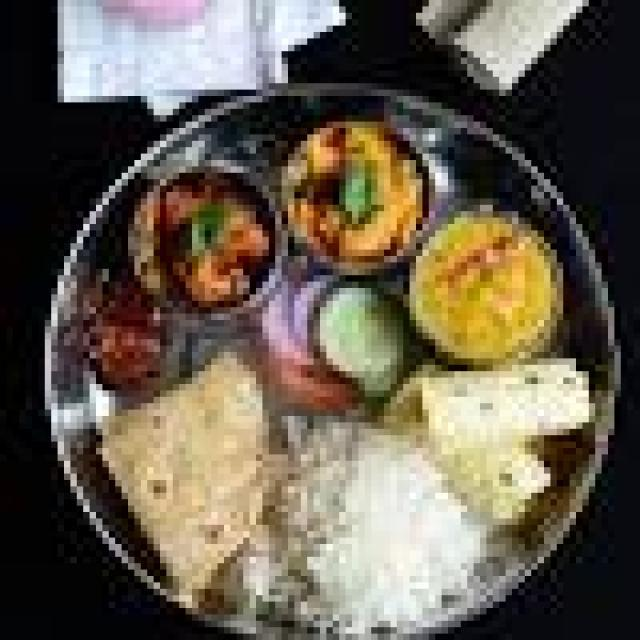dal: (404, 201, 562, 366)
papad: (95, 367, 282, 589), (405, 336, 604, 531), (395, 0, 599, 83)
pickle: (91, 284, 181, 394)
veg-fry: (403, 199, 564, 371), (279, 115, 430, 282), (127, 166, 281, 323)
